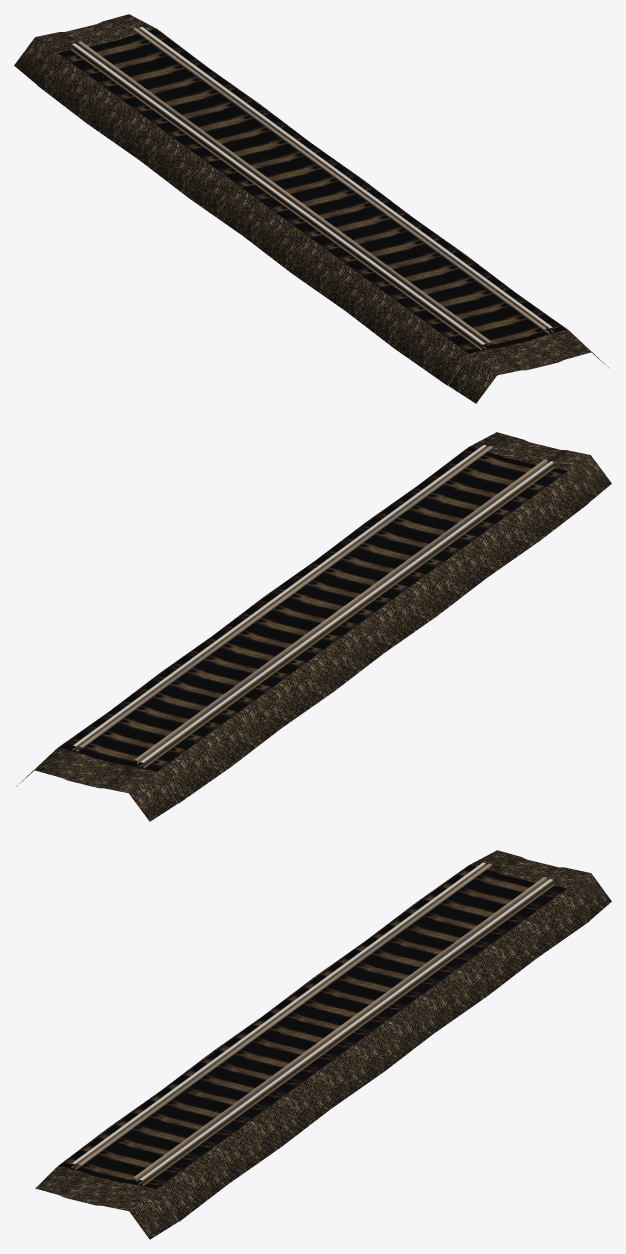
The model's file is KIN_1RAIL_50.glb.
The picture shows the model from 3 angles, top to bottom: view 1: azimuth 30°, elevation 25°; view 2: azimuth 150°, elevation 25°; view 3: azimuth 330°, elevation 25°; orthographic projection.
Visible parts, largest first — view 1: obj2, R000_RG_R1, R000_RG_L1; view 2: obj2, R000_RG_R1, R000_RG_L1; view 3: obj2, R000_RG_L1, R000_RG_R1.
Boxes of the visible parts, x1=… form: obj2: x1=14, y1=14, x2=609, y2=403; R000_RG_R1: x1=78, y1=41, x2=491, y2=346; R000_RG_L1: x1=133, y1=28, x2=546, y2=330; obj2: x1=16, y1=432, x2=611, y2=821; R000_RG_R1: x1=134, y1=459, x2=547, y2=764; R000_RG_L1: x1=78, y1=446, x2=492, y2=750; obj2: x1=35, y1=850, x2=611, y2=1239; R000_RG_L1: x1=133, y1=877, x2=547, y2=1182; R000_RG_R1: x1=78, y1=863, x2=491, y2=1166.
Bounding box in the file's own units: 10.12 × 2.22 × 56.25.
Materials: 6 (5 with a texture image).
